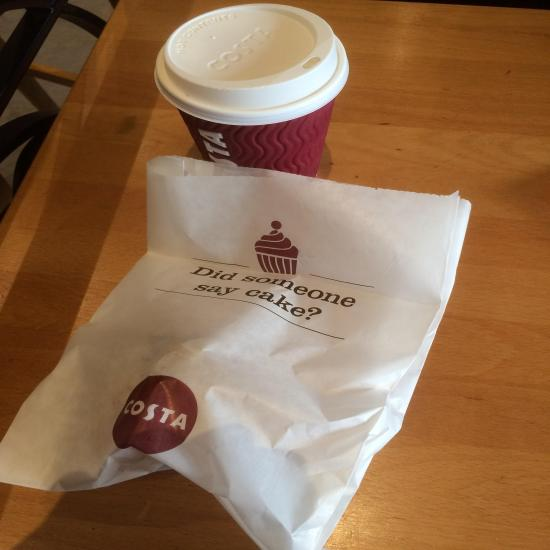Paper bag: (0, 156, 471, 549)
Paper cup: (154, 4, 349, 177)
Plastic lid: (154, 3, 348, 125)
